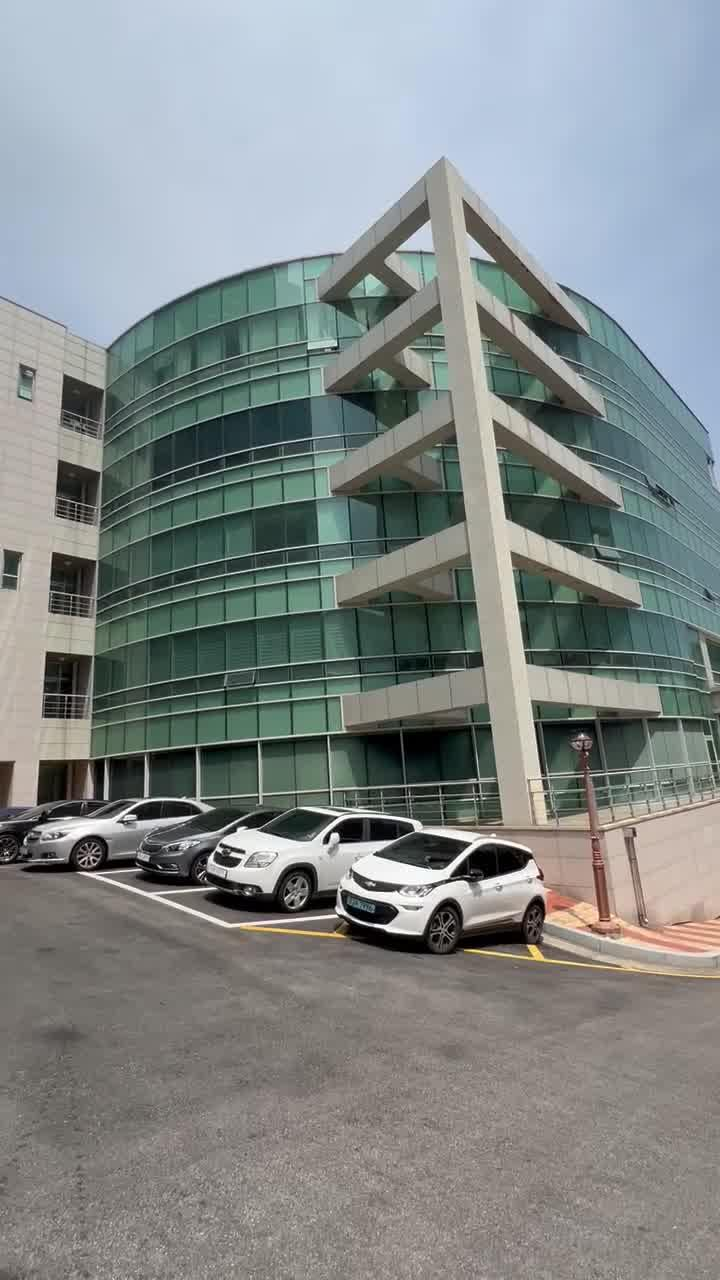building: (2, 176, 720, 800)
